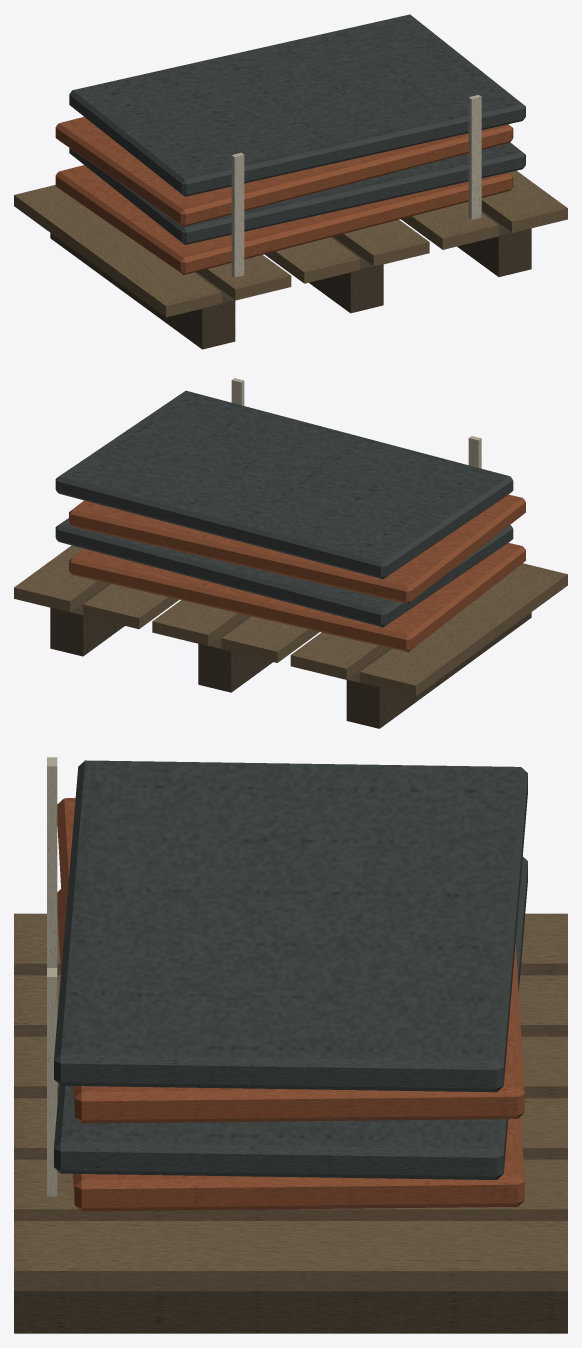
Rendered from PalletBundle.fbx.
The picture shows the model from 3 angles, top to bottom: view 1: azimuth 30°, elevation 25°; view 2: azimuth 150°, elevation 25°; view 3: azimuth 270°, elevation 25°; orthographic projection. The views are drawn at different scales.
Parts seen in each view (by area): view 1: PalletBundle; view 2: PalletBundle; view 3: PalletBundle.
Boxes of the visible parts, box(x1,y1,x2,y2) form: PalletBundle: box(14, 14, 567, 349); PalletBundle: box(14, 378, 567, 728); PalletBundle: box(14, 757, 567, 1333).
Bounding box in the file's own units: 244 × 102 × 160.
1 material, 1 textured.
